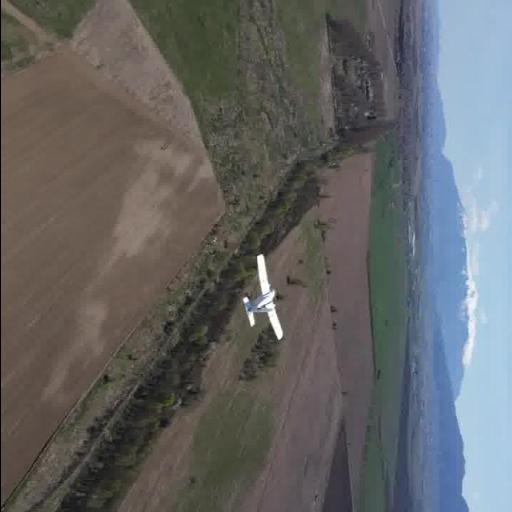uav: (225, 254, 287, 340)
